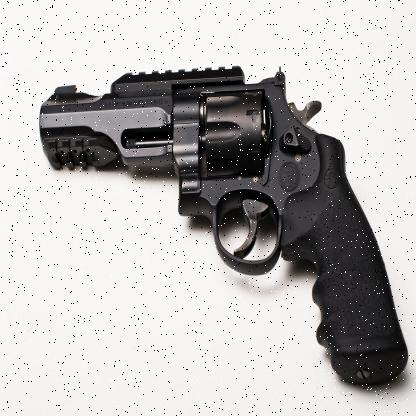pistol: (37, 60, 408, 391)
